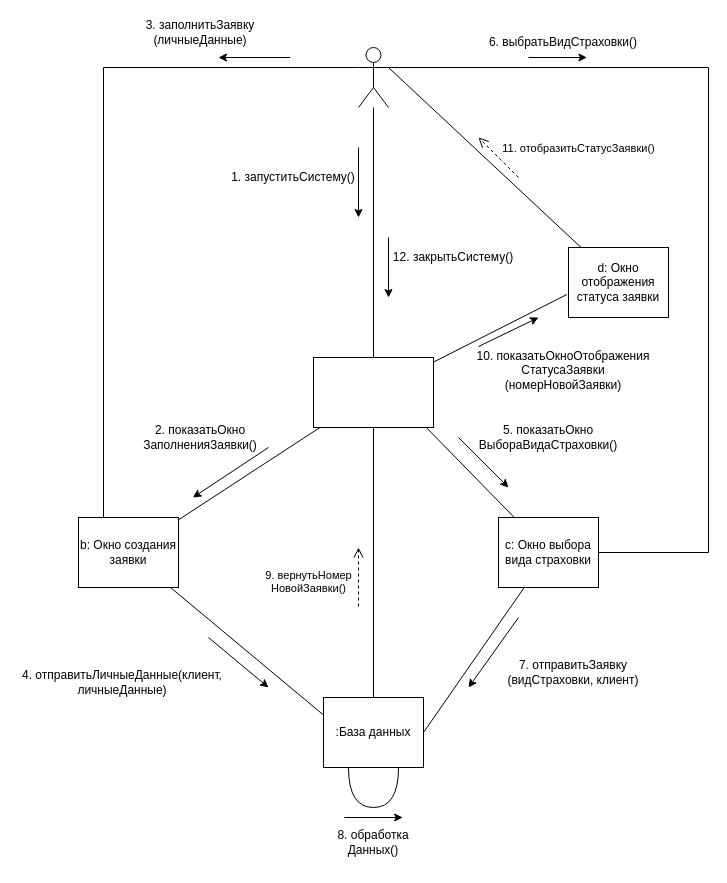
Image size: 727x883. Some labels were removed from this diagram. The shapes that lost their labels are listed below. From the top down, each one's centre as x and y in pixels, then its label:
pixel 373 77: a: Клиент
pixel 373 392: :Система
